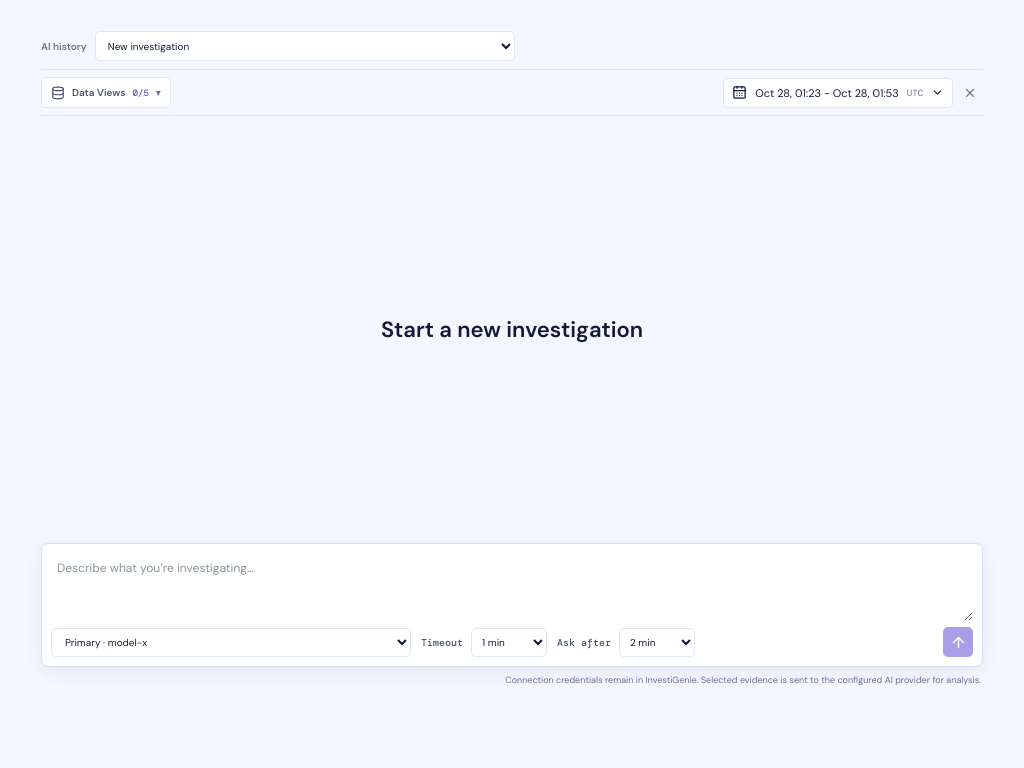
Test: InvestiGenieAIPage › does not promote partial findings reopened from history
This screenshot has width=1024, height=768.
Select "Partial case" in the dropdown named "AI conversation history". click: (305, 46)
box: [95,31,515,61]
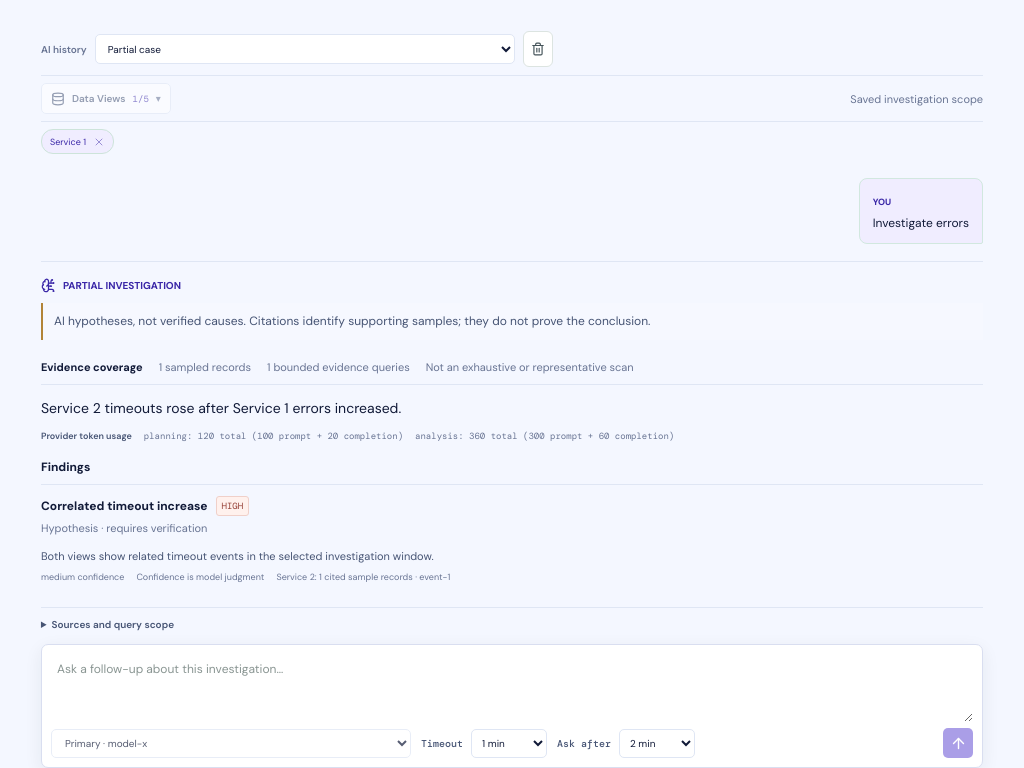
Result: the text "Service 2 timeouts rose after Service 1 errors increased." is shown at [41,399,401,417]
